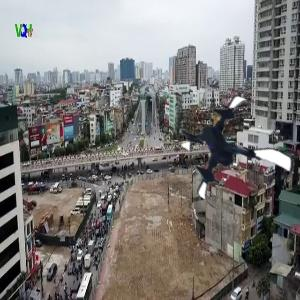drone: (175, 94, 297, 216)
